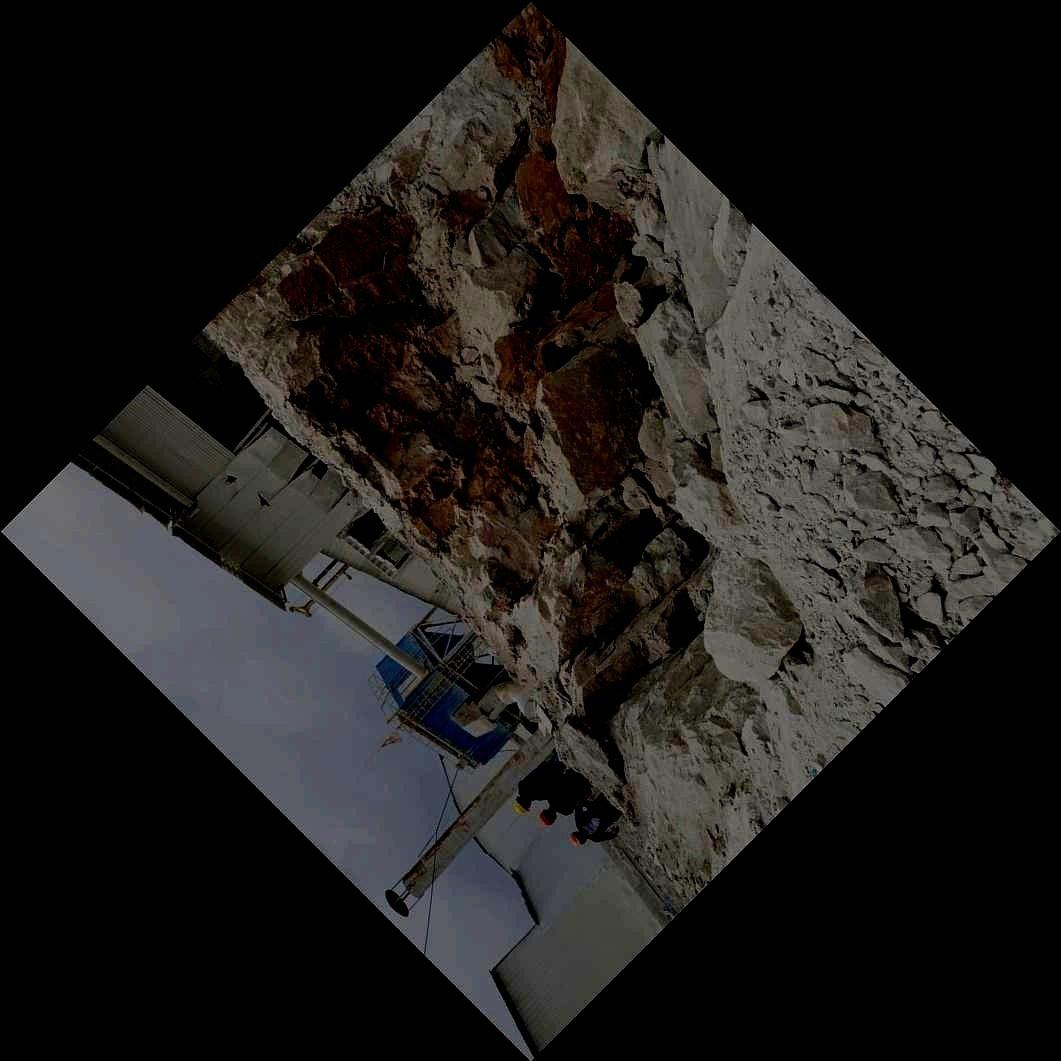helmet: (513, 796, 531, 815), (539, 809, 557, 826), (570, 831, 587, 846)
